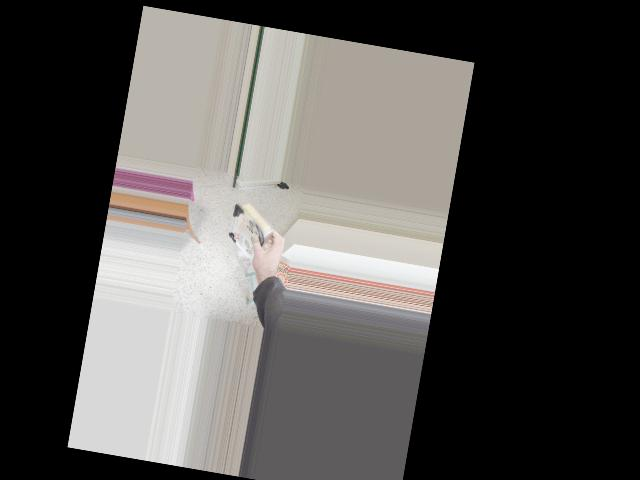cheese: (209, 185, 296, 261)
